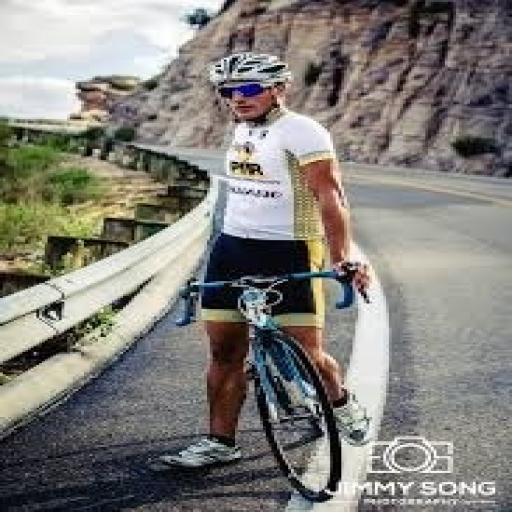cycling: (156, 50, 378, 471)
